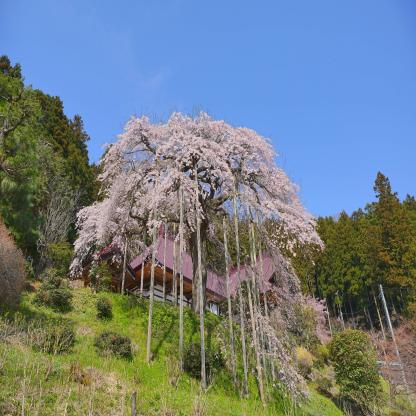EdohiganSakura: (69, 103, 329, 408)
